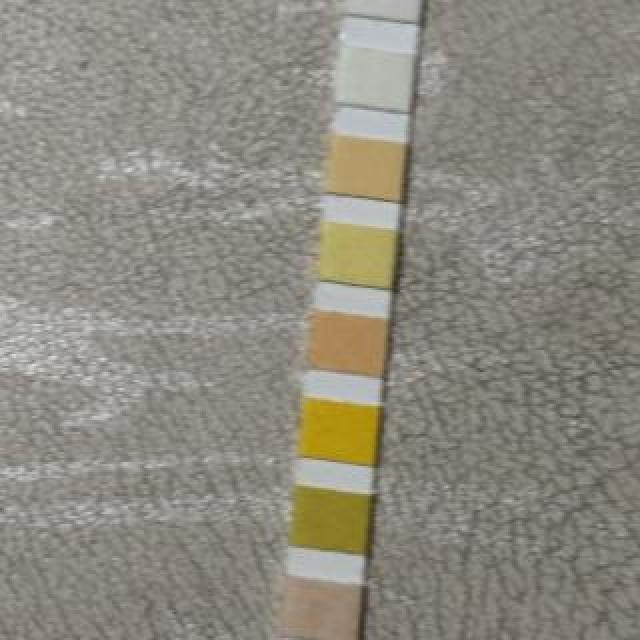Blood: (302, 407, 373, 455)
Ketone: (286, 586, 355, 635)
Leukocytes: (350, 0, 416, 14)
Nitrite: (339, 59, 409, 102)
Protein: (321, 232, 391, 280)
SpGravity: (293, 496, 365, 544)
Urobilinogen: (329, 145, 401, 193)
pH: (310, 321, 382, 366)
